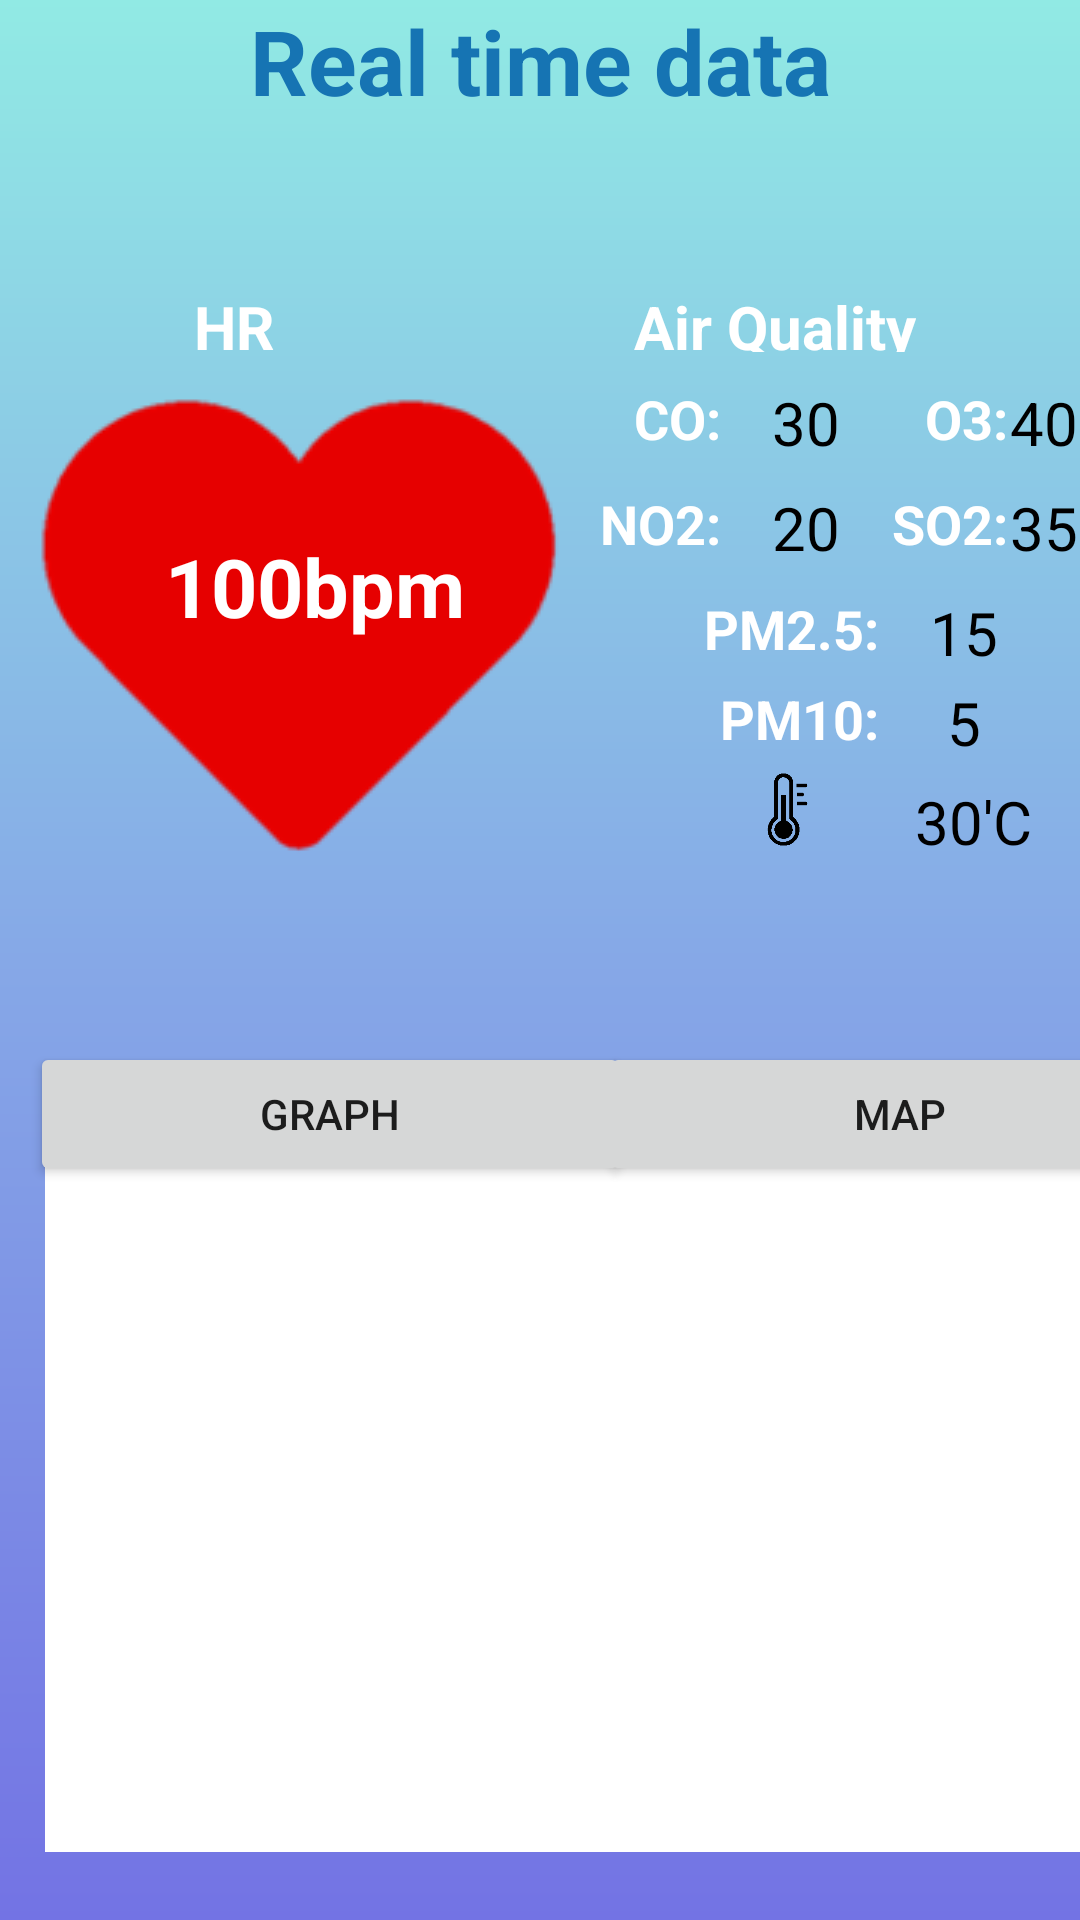

Where to tap for icons on this 1080x1920 app screen, as (x=x, y=y):
temperature: (x=787, y=809)
